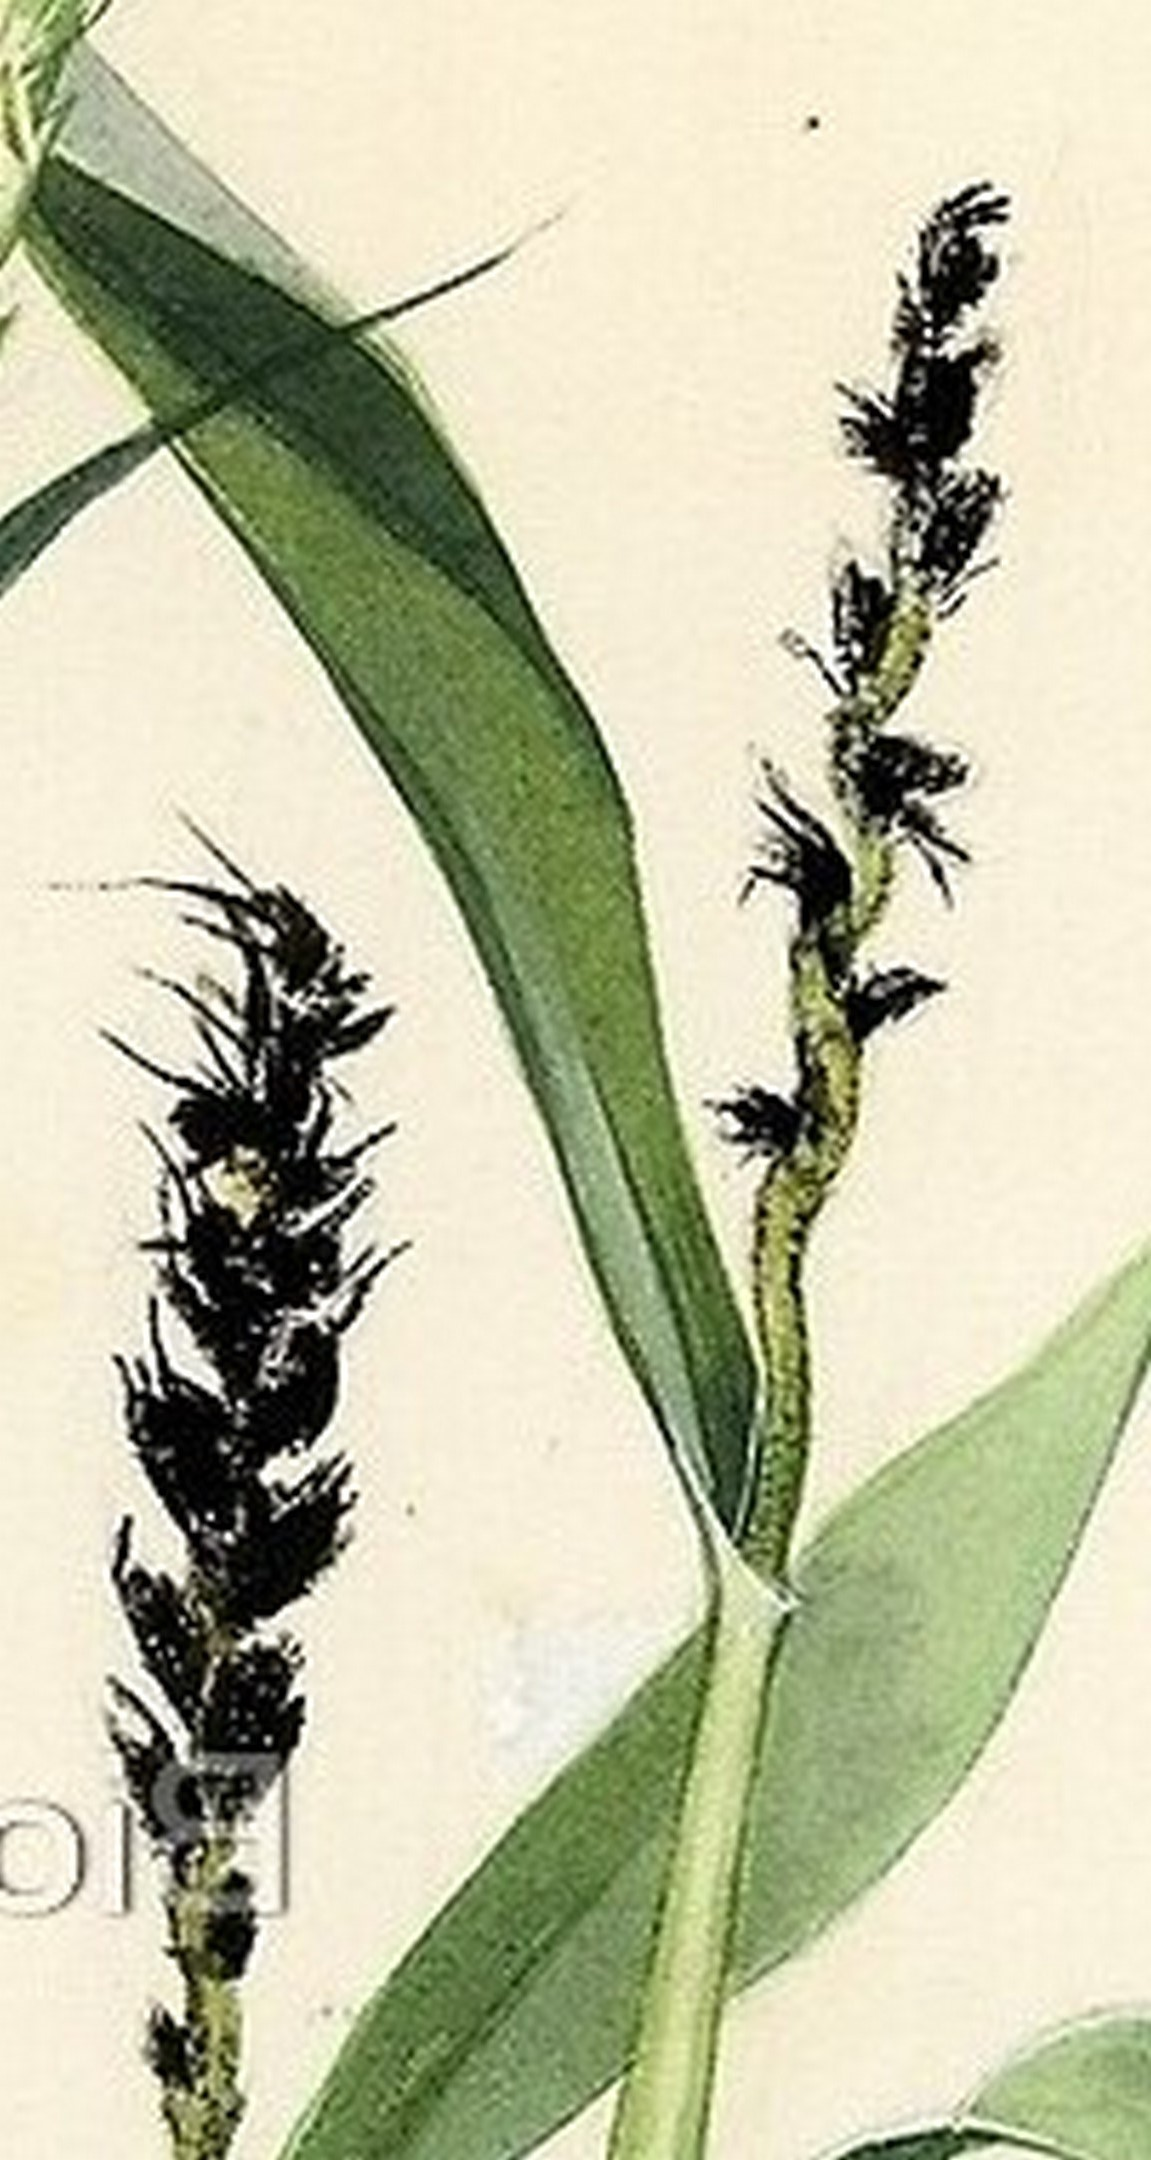Wheat Loose Smut: (99, 866, 427, 1940)
